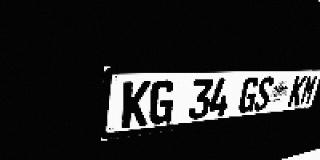3: (188, 78, 214, 120)
4: (207, 78, 233, 117)
G: (148, 80, 176, 125), (237, 77, 260, 114)
K: (121, 81, 151, 129), (287, 75, 308, 107)
M: (299, 75, 319, 106)
S: (252, 76, 275, 112)
